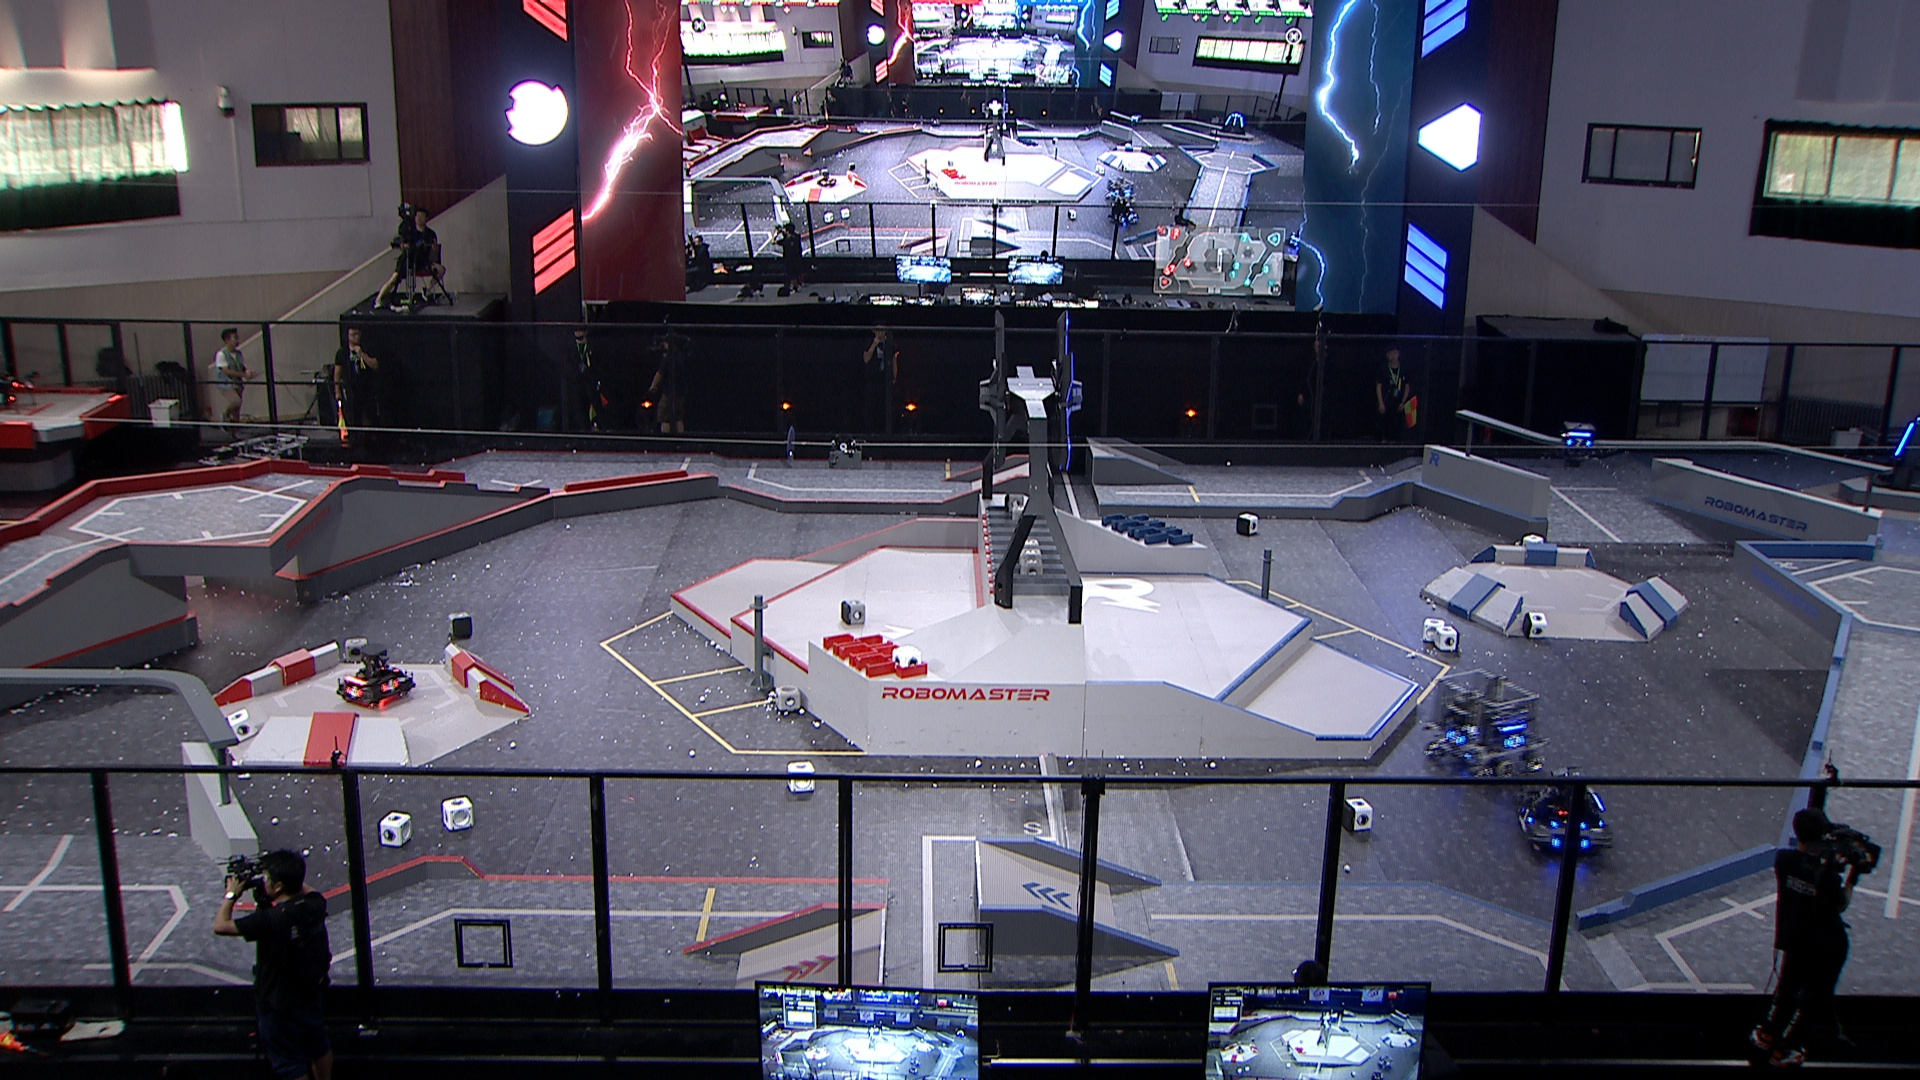armor: (1894, 419, 1916, 458), (1447, 728, 1468, 746), (1505, 732, 1523, 752), (378, 678, 400, 694), (1520, 807, 1536, 825), (345, 684, 365, 699), (1565, 438, 1592, 448)
base: (1871, 415, 1920, 496)
car: (1419, 670, 1548, 785), (1514, 765, 1611, 858), (215, 433, 310, 516), (338, 641, 418, 708), (193, 447, 266, 517)
ignore: (1105, 177, 1135, 204), (1218, 112, 1247, 135), (1116, 208, 1139, 228), (816, 169, 839, 189), (1284, 229, 1300, 248), (1130, 115, 1143, 127), (683, 164, 694, 177)
watcher: (1560, 422, 1596, 469)
